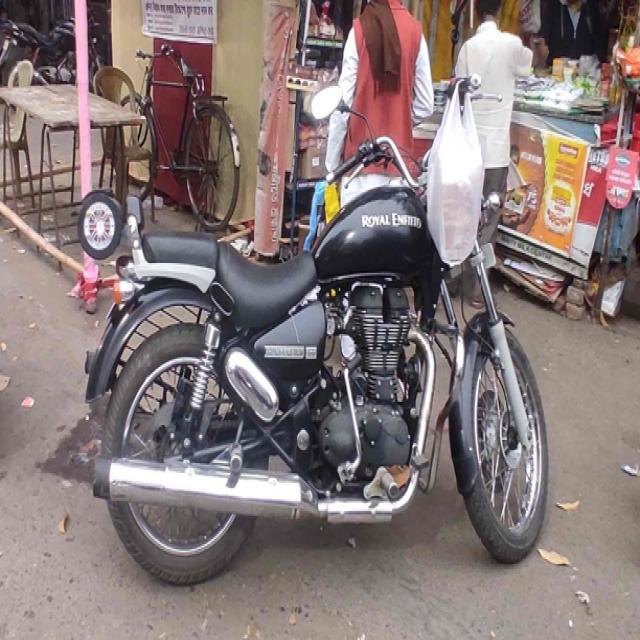Motorized2wheleer: (71, 139, 554, 595)
